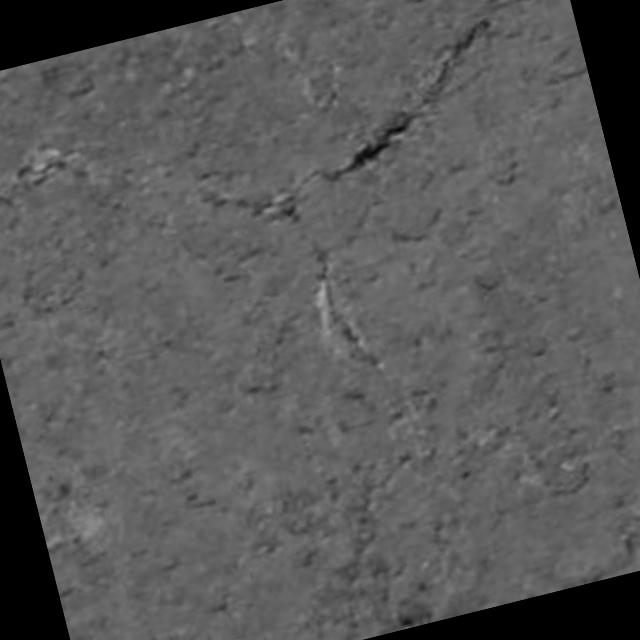crack: (323, 16, 491, 181), (314, 249, 383, 370), (323, 111, 418, 181), (420, 17, 490, 106)
